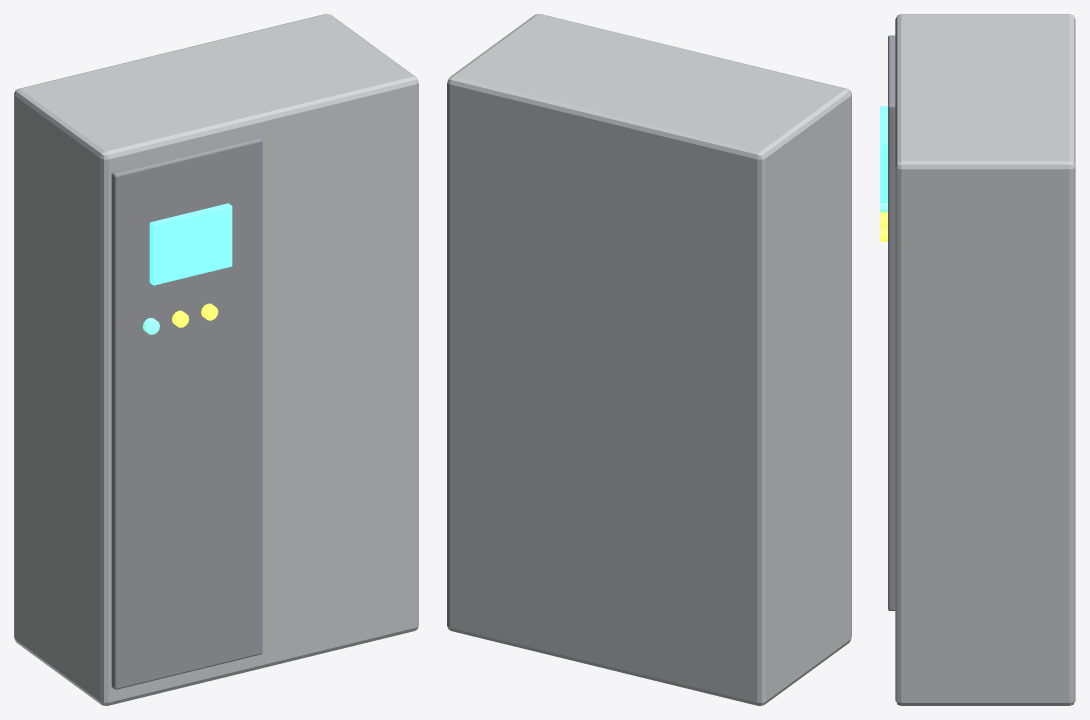
Rendered from cabinet.glb.
The picture shows the model from 3 angles, left to right: view 1: azimuth 30°, elevation 25°; view 2: azimuth 150°, elevation 25°; view 3: azimuth 270°, elevation 25°; orthographic projection.
Parts seen in each view (by area): view 1: P_EQ_cabinet_01__cabinet, P_EQ_cabinet_01__door, P_EQ_cabinet_01__hmi; view 2: P_EQ_cabinet_01__cabinet; view 3: P_EQ_cabinet_01__cabinet, P_EQ_cabinet_01__door, P_EQ_cabinet_01__hmi.
Boxes of the visible parts, left/top/right/bottom form: P_EQ_cabinet_01__cabinet: left=14, top=14, right=418, bottom=705; P_EQ_cabinet_01__door: left=111, top=137, right=262, bottom=689; P_EQ_cabinet_01__hmi: left=149, top=203, right=232, bottom=285; P_EQ_cabinet_01__cabinet: left=447, top=14, right=851, bottom=705; P_EQ_cabinet_01__cabinet: left=895, top=14, right=1075, bottom=705; P_EQ_cabinet_01__door: left=888, top=35, right=895, bottom=610; P_EQ_cabinet_01__hmi: left=880, top=106, right=887, bottom=202.
Size of the model in its own units: 1.2 by 2 by 0.65.
